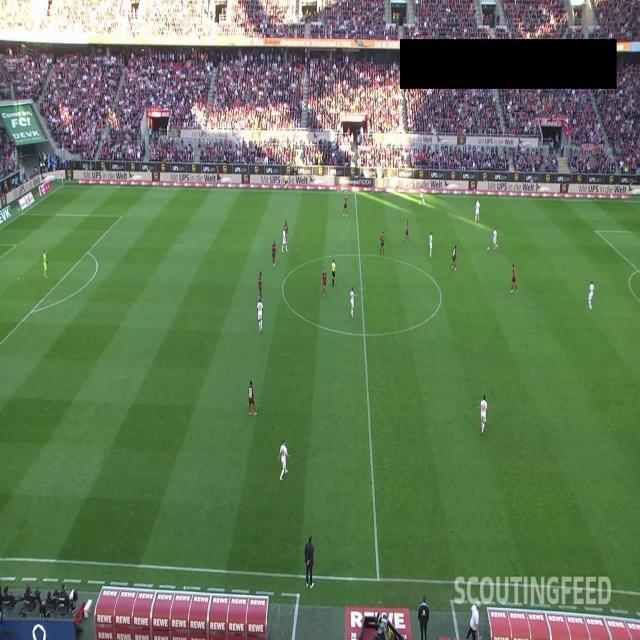arbitro: (331, 260, 336, 286)
football: (487, 245, 490, 252)
goleiro: (42, 250, 49, 279)
jogador: (476, 394, 490, 436), (278, 442, 290, 480), (247, 378, 258, 416), (256, 300, 264, 332), (587, 281, 595, 310), (510, 265, 518, 293), (450, 245, 458, 271), (491, 228, 499, 251), (321, 271, 328, 297), (402, 219, 410, 241), (349, 288, 355, 317), (257, 272, 263, 299), (271, 241, 277, 267), (342, 196, 349, 217), (282, 229, 288, 253), (474, 200, 480, 222), (379, 233, 385, 255), (418, 190, 426, 205), (282, 220, 288, 239), (428, 233, 433, 255)
